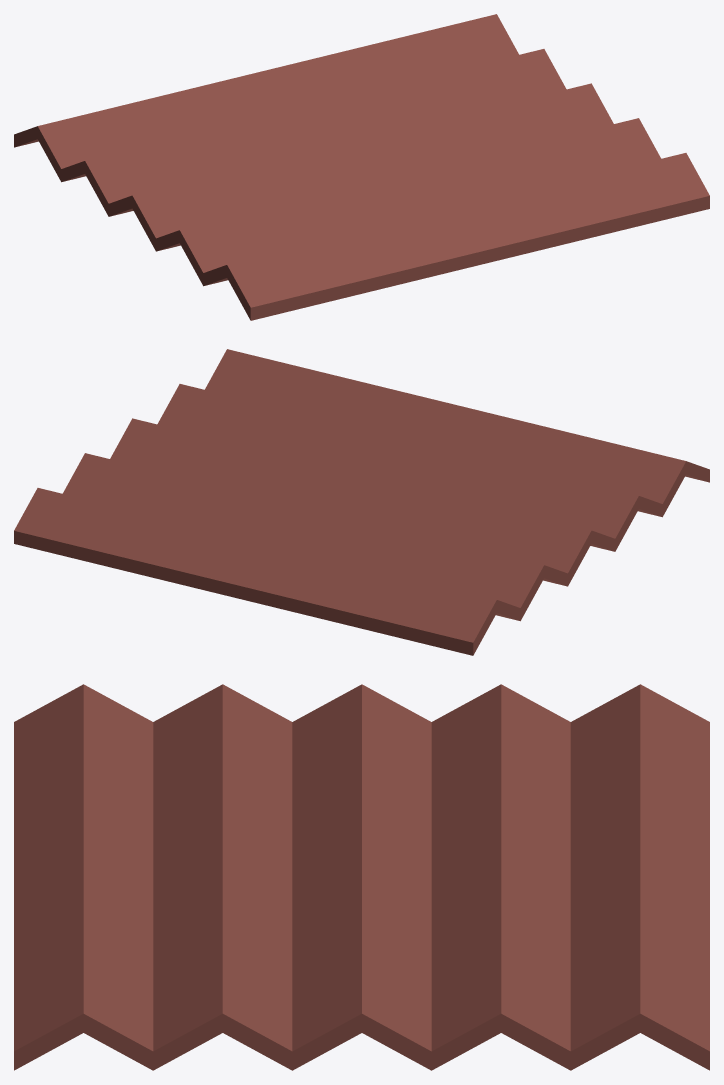
The model's file is Environment_RifledRoofFront_01.fbx.
The picture shows the model from 3 angles, top to bottom: view 1: azimuth 30°, elevation 25°; view 2: azimuth 150°, elevation 25°; view 3: azimuth 270°, elevation 25°; orthographic projection. The views are drawn at different scales.
Parts seen in each view (by area): view 1: Environment_RifledRoofFront_01; view 2: Environment_RifledRoofFront_01; view 3: Environment_RifledRoofFront_01.
Part boxes in pixels (box(x1,y1,x2,y2)): Environment_RifledRoofFront_01: box(14, 14, 709, 320); Environment_RifledRoofFront_01: box(14, 349, 709, 655); Environment_RifledRoofFront_01: box(14, 684, 709, 1070).
Bounding box in the file's own units: 224 × 18.11 × 200.
